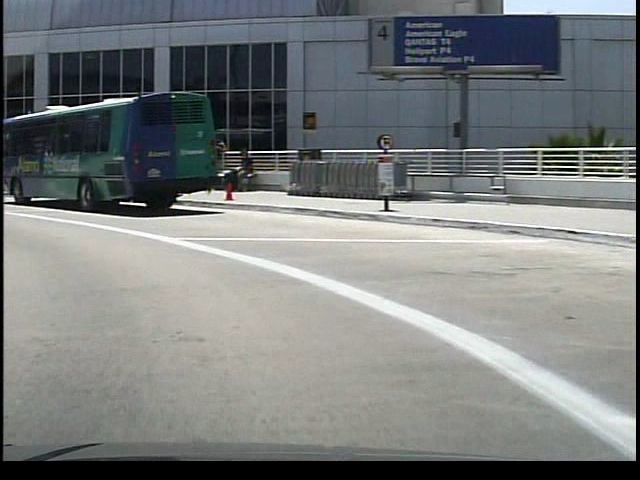person: (225, 144, 252, 193)
